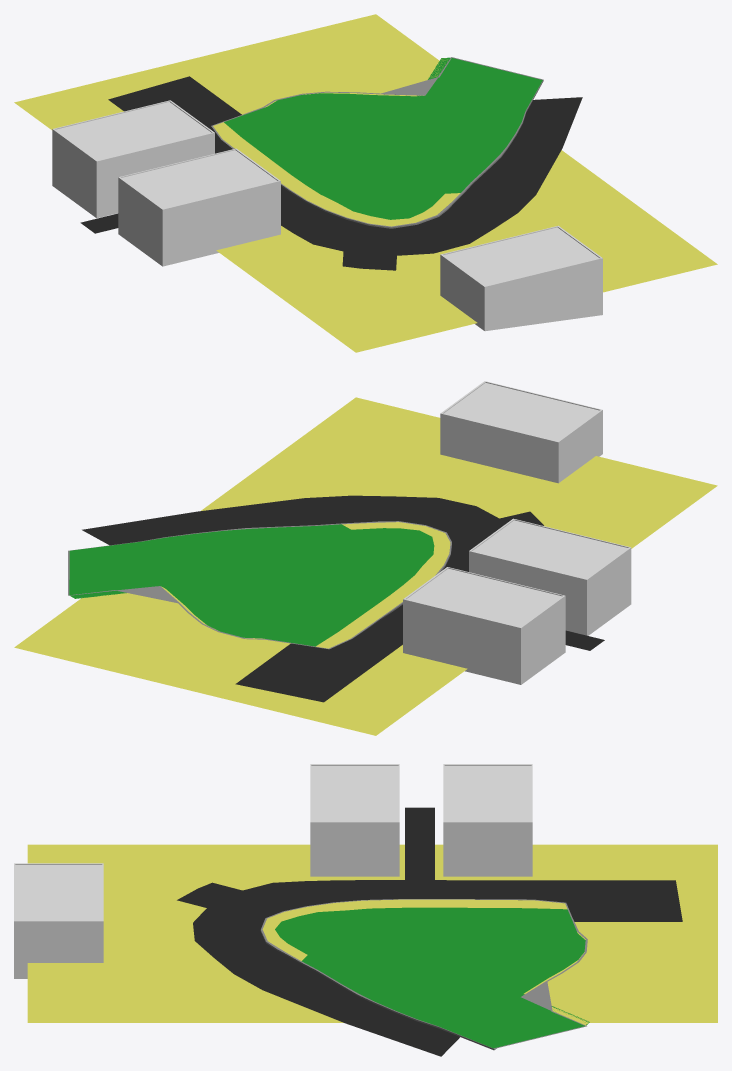
Rendered from background.glb.
The picture shows the model from 3 angles, top to bottom: view 1: azimuth 30°, elevation 25°; view 2: azimuth 150°, elevation 25°; view 3: azimuth 270°, elevation 25°; orthographic projection.
Visible parts, largest first — view 1: Floor, Cylinder, Cylinder.001, Cube.002, Cube, Cube.001; view 2: Floor, Cylinder, Cylinder.001, Cube.001, Cube, Cube.002; view 3: Floor, Cylinder, Cylinder.001, Cube.001, Cube.002, Cube.
Boxes of the visible parts, bbox=[...] form: Floor: bbox=[14, 14, 717, 352]; Cylinder: bbox=[211, 57, 543, 228]; Cylinder.001: bbox=[80, 76, 582, 270]; Cube.002: bbox=[118, 148, 280, 266]; Cube: bbox=[440, 225, 602, 331]; Cube.001: bbox=[52, 100, 214, 218]; Floor: bbox=[14, 397, 717, 735]; Cylinder: bbox=[68, 521, 451, 649]; Cylinder.001: bbox=[82, 495, 604, 702]; Cube.001: bbox=[403, 567, 565, 684]; Cube: bbox=[440, 381, 602, 483]; Cube.002: bbox=[469, 518, 631, 635]; Floor: bbox=[27, 844, 717, 1022]; Cylinder: bbox=[260, 899, 589, 1050]; Cylinder.001: bbox=[177, 807, 682, 1056]; Cube.001: bbox=[443, 764, 532, 876]; Cube.002: bbox=[310, 764, 399, 876]; Cube: bbox=[14, 863, 103, 978].
Bounding box in the file's own units: 147 × 19.28 × 175.
